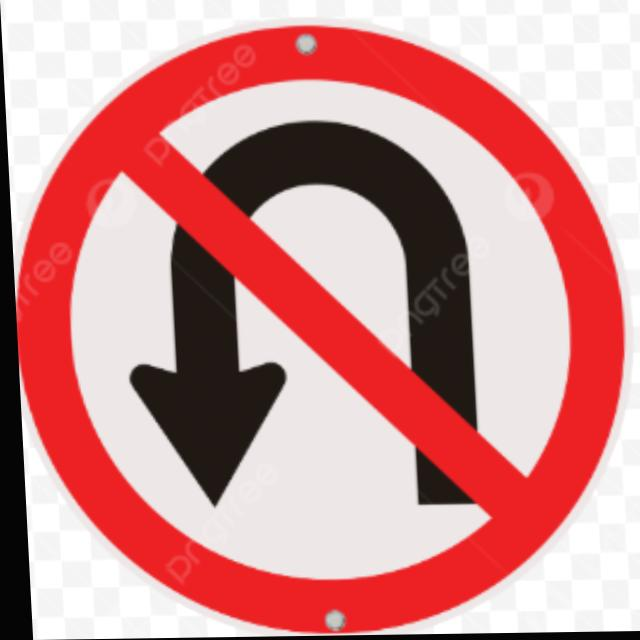not_u_turn_left: (10, 15, 639, 634)
